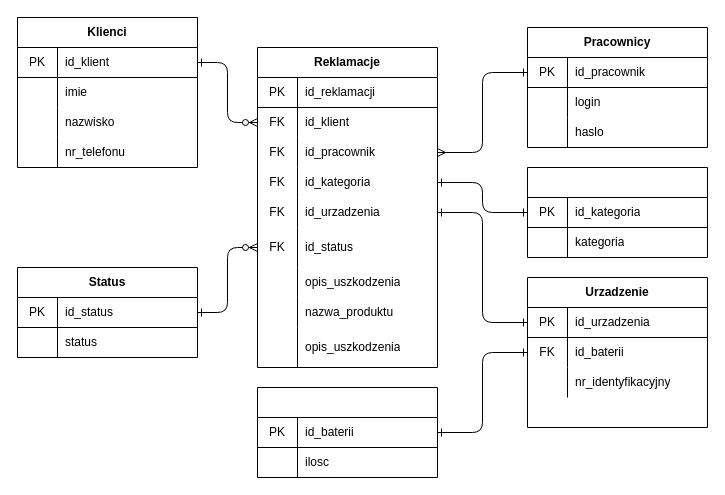
The diagram is 725 pixels wide and 495 high, and some of its shapes have lost their labels. The box of each missing label's shape, as (x1, y1, x2, y2) in pixels:
Baterie: (256, 386, 438, 478)
Kategorie: (526, 166, 708, 258)
